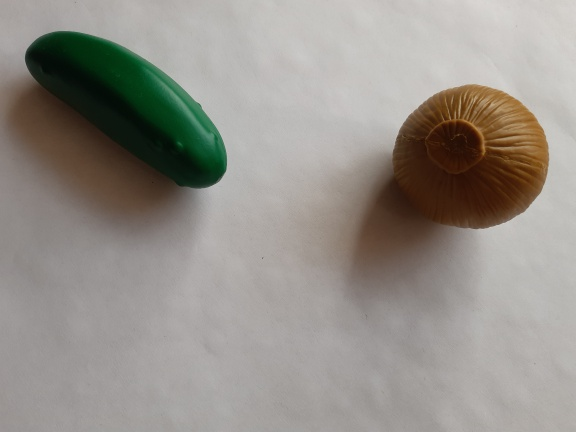cucumber: (15, 25, 238, 202)
onion: (385, 77, 556, 239)
